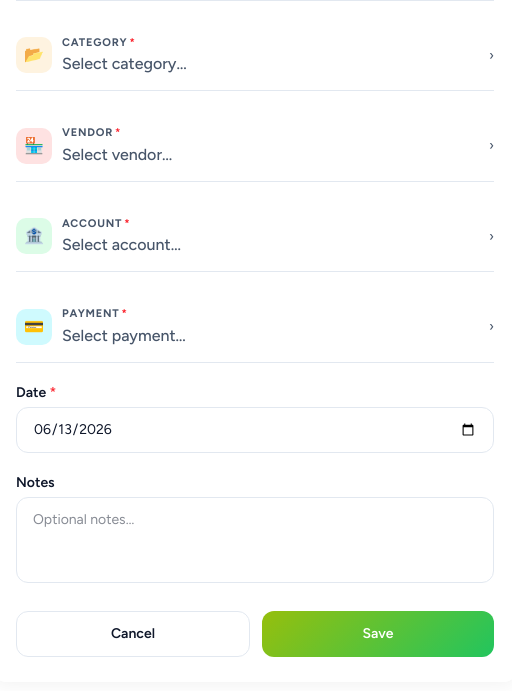
TransactionForm (add mode) › validates all required fields before submission
This screenshot has width=512, height=691.
(page scrolled)
# Try to submit without filling in fields
Click the button "Save". click: x=378, y=634
box: [262,610,494,656]
(page scrolled)
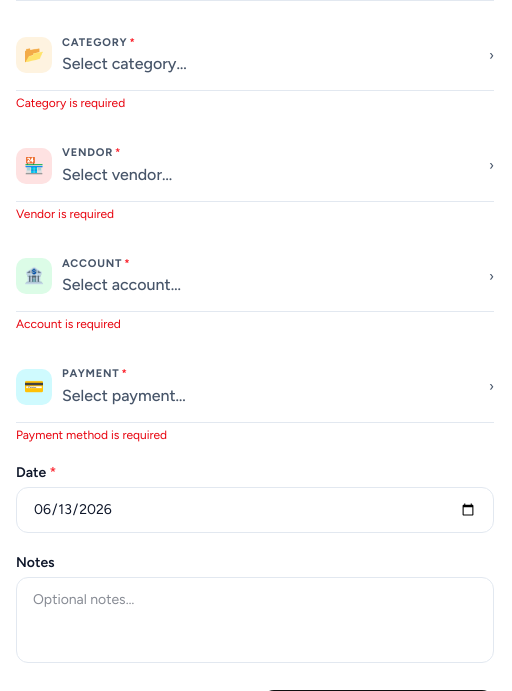
Expected: the text "Category is required" is shown, [16,96,125,110]
Expected: the text "Vendor is required" is shown, [16,206,114,220]
Expected: the text "Account is required" is shown, [16,317,121,331]
